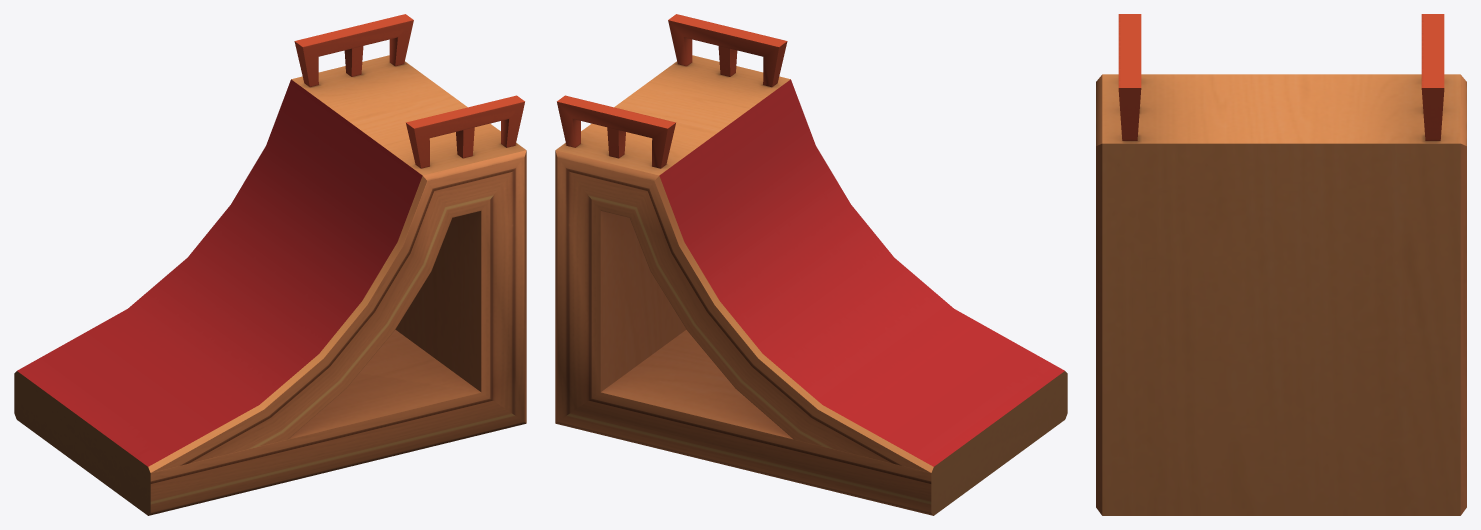
File: huati01.FBX
3 renders of one model, left to right at view 1: azimuth 30°, elevation 25°; view 2: azimuth 150°, elevation 25°; view 3: azimuth 270°, elevation 25°, orthographic. The views are drawn at different scales.
Parts seen in each view (by area): view 1: objqumianxiapo_hong_01; view 2: objqumianxiapo_hong_01; view 3: objqumianxiapo_hong_01.
Part boxes in pixels (x1,y1,x2,y2): objqumianxiapo_hong_01: [14, 14, 526, 515]; objqumianxiapo_hong_01: [555, 14, 1067, 515]; objqumianxiapo_hong_01: [1096, 14, 1466, 515].
Bounding box in the file's own units: 11.62 × 9.18 × 7.15.
